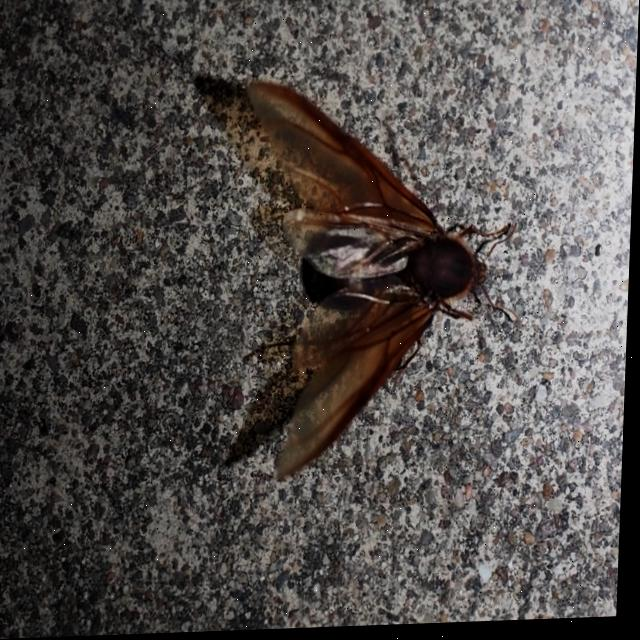Alive-Male-Alate: (237, 74, 528, 485)
